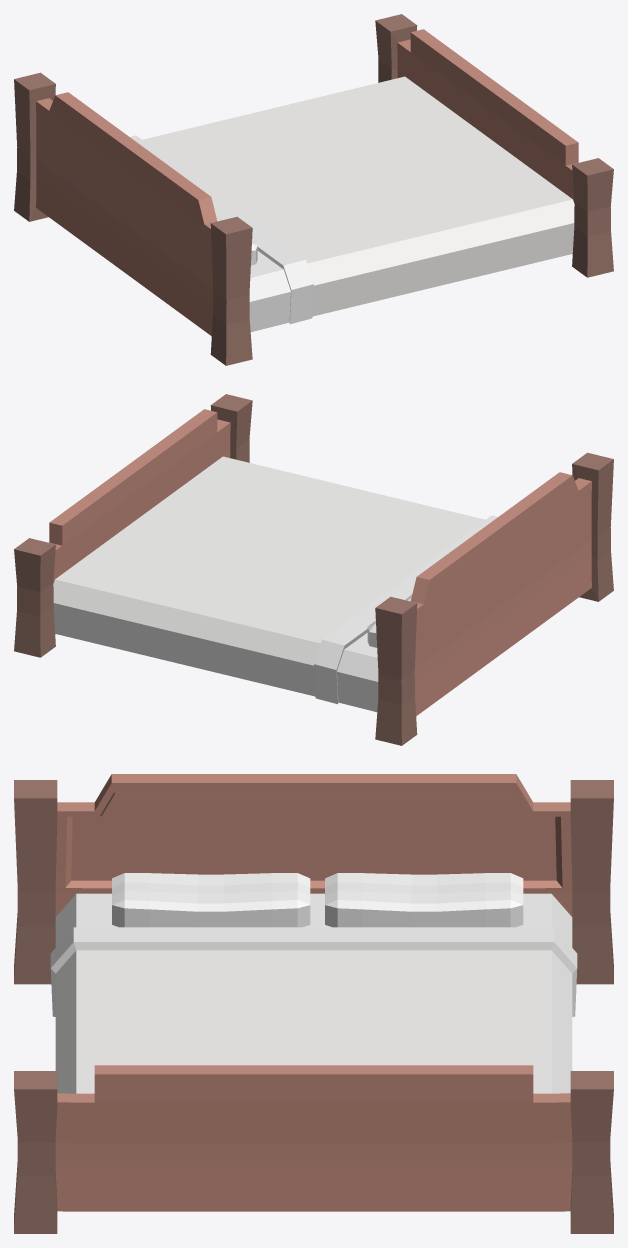
The model's file is BedKing.glb.
The picture shows the model from 3 angles, top to bottom: view 1: azimuth 30°, elevation 25°; view 2: azimuth 150°, elevation 25°; view 3: azimuth 270°, elevation 25°; orthographic projection. The views are drawn at different scales.
Parts seen in each view (by area): view 1: Sheets.001, Wood.001, DarkBrown.001, White.001; view 2: Sheets.001, Wood.001, DarkBrown.001, White.001; view 3: Wood.001, Sheets.001, White.001, DarkBrown.001.
Boxes of the visible parts, left/top/right/bottom form: Sheets.001: left=142, top=76, right=574, bottom=316; Wood.001: left=36, top=29, right=578, bottom=335; DarkBrown.001: left=14, top=14, right=613, bottom=365; White.001: left=130, top=135, right=313, bottom=332; Sheets.001: left=53, top=456, right=485, bottom=696; Wood.001: left=49, top=409, right=591, bottom=715; DarkBrown.001: left=14, top=394, right=613, bottom=745; White.001: left=314, top=515, right=497, bottom=712; Wood.001: left=55, top=774, right=572, bottom=1211; Sheets.001: left=55, top=950, right=572, bottom=1093; White.001: left=50, top=873, right=577, bottom=1016; DarkBrown.001: left=14, top=780, right=613, bottom=1233.
Size of the model in its own units: 1.43 by 0.4898 by 1.35.
